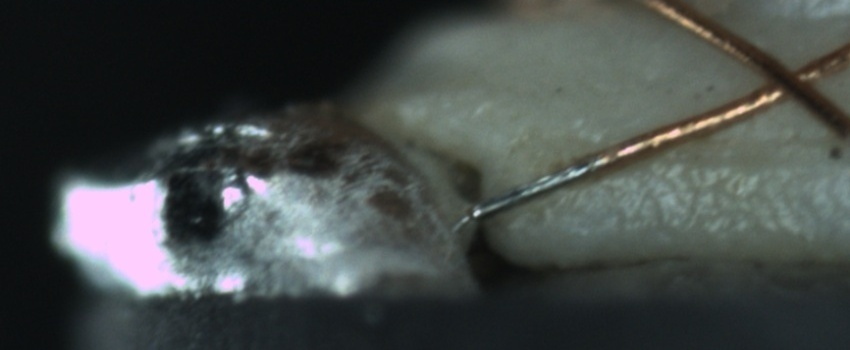CL: (740, 40, 838, 112)
DL: (642, 114, 850, 190)
TS: (463, 156, 597, 223)
